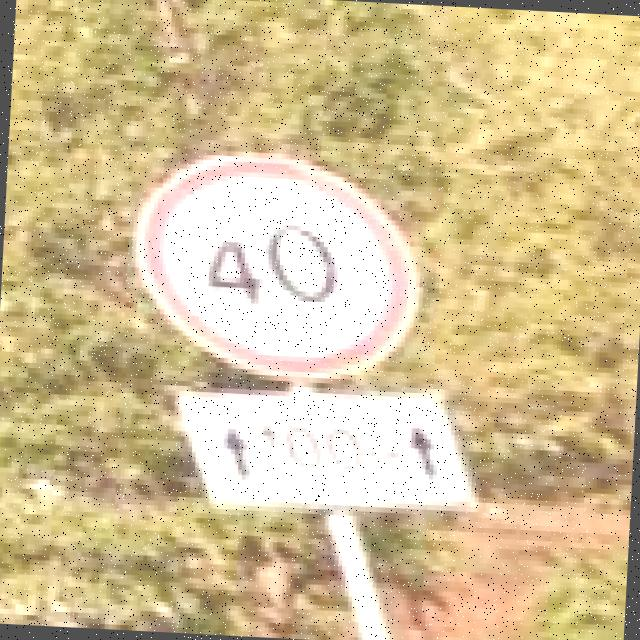Ograniczenie predkosci do 40: (130, 146, 426, 388)
